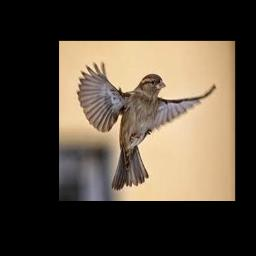Sparrow: (77, 61, 215, 190)
